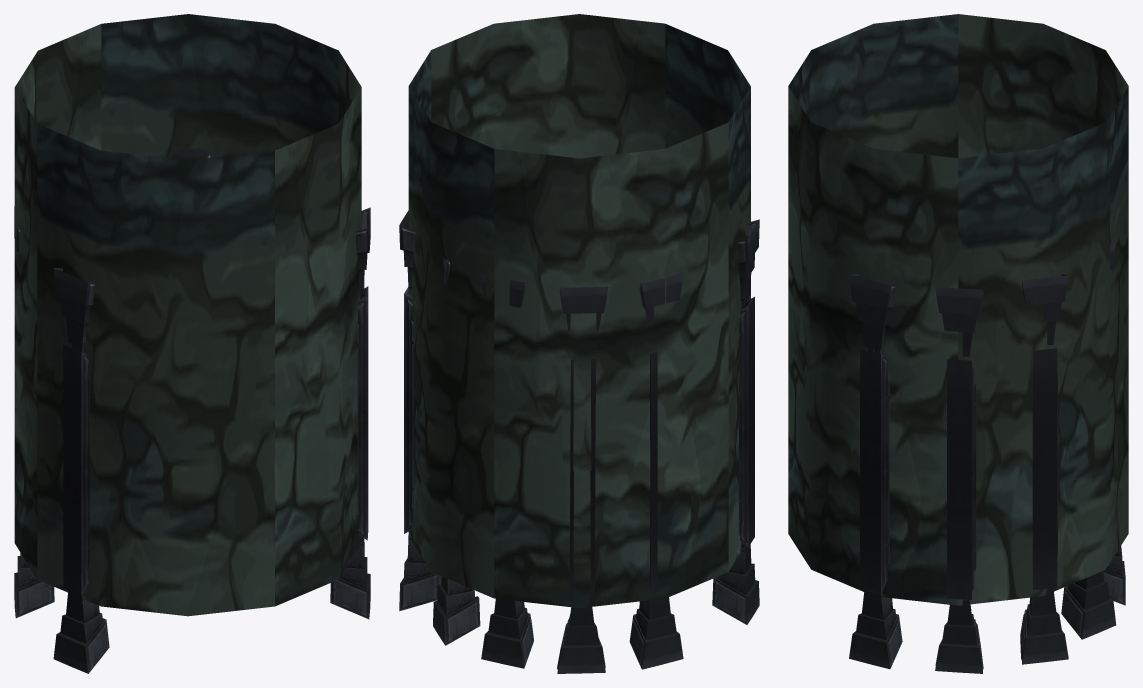
The model's file is env_mala_trayus_core_pre.glb.
3 renders of one model, left to right at view 1: azimuth 30°, elevation 25°; view 2: azimuth 150°, elevation 25°; view 3: azimuth 270°, elevation 25°, orthographic.
Parts seen in each view (by area): view 1: cor_nightsky_mesh (3), cor_nightsky_mesh (2), mala_pillar_04_mesh (11), mala_pillar_04_mesh (10), mala_pillar_04_mesh (14), mala_pillar_04_mesh (15), mala_pillar_04_mesh (2); view 2: cor_nightsky_mesh (2), cor_nightsky_mesh (3), mala_pillar_04_mesh (11), mala_pillar_04_mesh (2), mala_pillar_04_mesh (1), mala_pillar_04_mesh (10), mala_pillar_04_mesh (8), mala_pillar_04_mesh (4), mala_pillar_04_mesh, mala_pillar_04_mesh (7), mala_pillar_04_mesh (3), mala_pillar_04_mesh (9); view 3: cor_nightsky_mesh (3), cor_nightsky_mesh (2), mala_pillar_04_mesh (14), mala_pillar_04_mesh (13), mala_pillar_04_mesh (8), mala_pillar_04_mesh (12), mala_pillar_04_mesh (15), mala_pillar_04_mesh (9), mala_pillar_04_mesh (7), mala_pillar_04_mesh (4).
Boxes of the visible parts, bbox=[...] form: cor_nightsky_mesh (3): bbox=[37, 51, 361, 616]; cor_nightsky_mesh (2): bbox=[14, 14, 338, 578]; mala_pillar_04_mesh (11): bbox=[53, 464, 109, 673]; mala_pillar_04_mesh (10): bbox=[53, 268, 94, 482]; mala_pillar_04_mesh (14): bbox=[330, 408, 370, 619]; mala_pillar_04_mesh (15): bbox=[355, 207, 370, 419]; mala_pillar_04_mesh (2): bbox=[14, 553, 54, 618]; cor_nightsky_mesh (2): bbox=[408, 50, 728, 608]; cor_nightsky_mesh (3): bbox=[431, 14, 750, 570]; mala_pillar_04_mesh (11): bbox=[712, 408, 759, 624]; mala_pillar_04_mesh (2): bbox=[629, 463, 683, 669]; mala_pillar_04_mesh (1): bbox=[557, 470, 605, 673]; mala_pillar_04_mesh (10): bbox=[737, 219, 759, 435]; mala_pillar_04_mesh (8): bbox=[399, 413, 441, 611]; mala_pillar_04_mesh (4): bbox=[481, 599, 533, 668]; mala_pillar_04_mesh: bbox=[559, 286, 608, 488]; mala_pillar_04_mesh (7): bbox=[433, 576, 480, 645]; mala_pillar_04_mesh (3): bbox=[639, 273, 683, 472]; mala_pillar_04_mesh (9): bbox=[399, 210, 415, 417]; cor_nightsky_mesh (3): bbox=[788, 14, 958, 605]; cor_nightsky_mesh (2): bbox=[958, 14, 1128, 605]; mala_pillar_04_mesh (14): bbox=[849, 460, 902, 669]; mala_pillar_04_mesh (13): bbox=[935, 471, 983, 673]; mala_pillar_04_mesh (8): bbox=[1020, 459, 1068, 664]; mala_pillar_04_mesh (12): bbox=[935, 286, 983, 488]; mala_pillar_04_mesh (15): bbox=[849, 274, 895, 482]; mala_pillar_04_mesh (9): bbox=[1022, 274, 1068, 478]; mala_pillar_04_mesh (7): bbox=[1061, 571, 1116, 639]; mala_pillar_04_mesh (4): bbox=[1103, 546, 1125, 605].
Size of the model in its own units: 108 by 175 by 105.
Materials: 7 (7 with a texture image).
